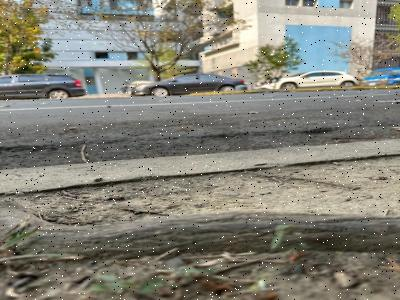Root: (18, 211, 399, 259)
